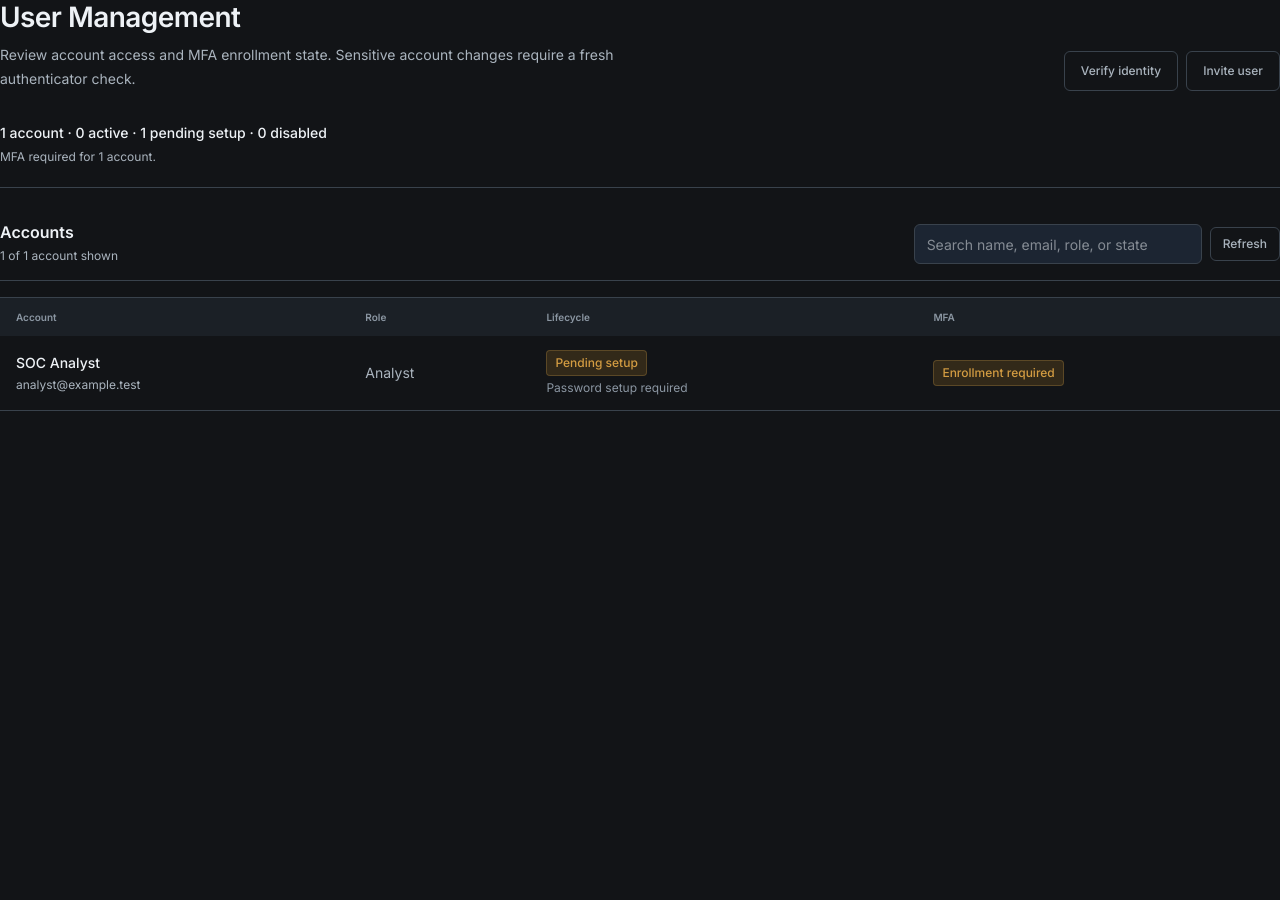
Test: UserManagementWorkspace › tracks a pending row action independently from other actions
Click the button with aria-label "Open account details for SOC Analyst" at (58, 363), box [16,353,100,373]
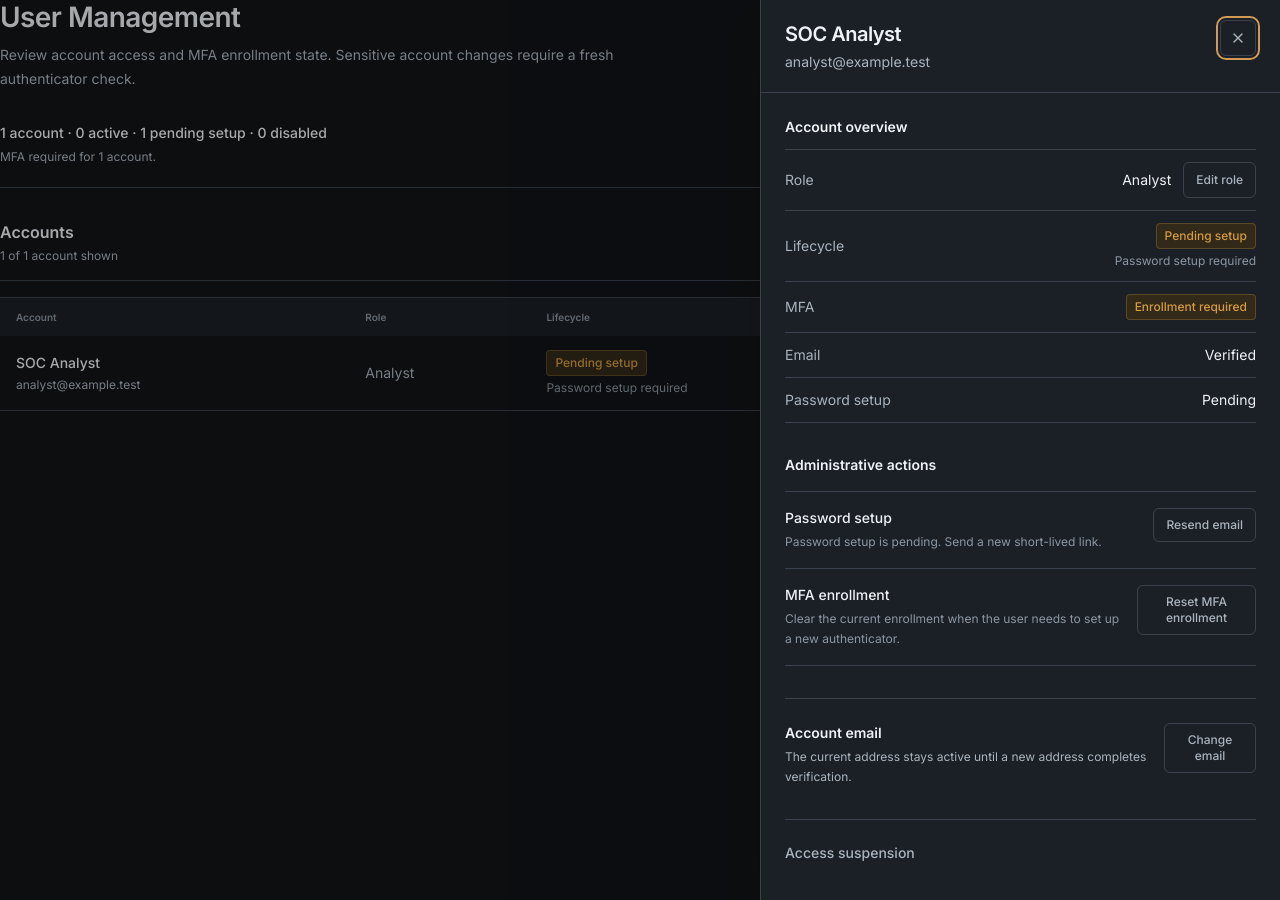
Click the button "Access suspension" at (850, 853), box [785,843,915,863]
(page scrolled)
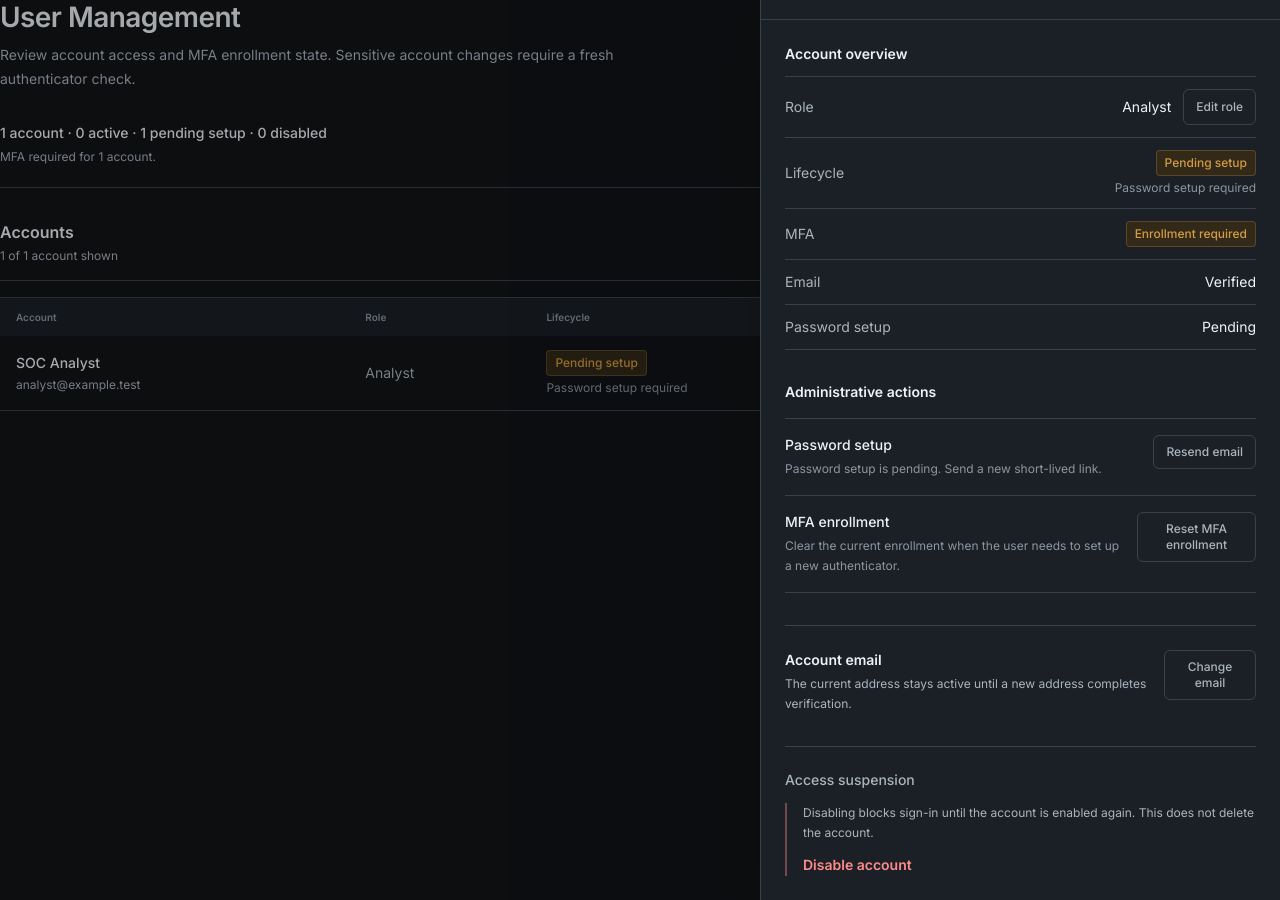
Click the button with aria-label "Disable SOC Analyst" at (857, 865), box [803,855,912,875]
(page scrolled)
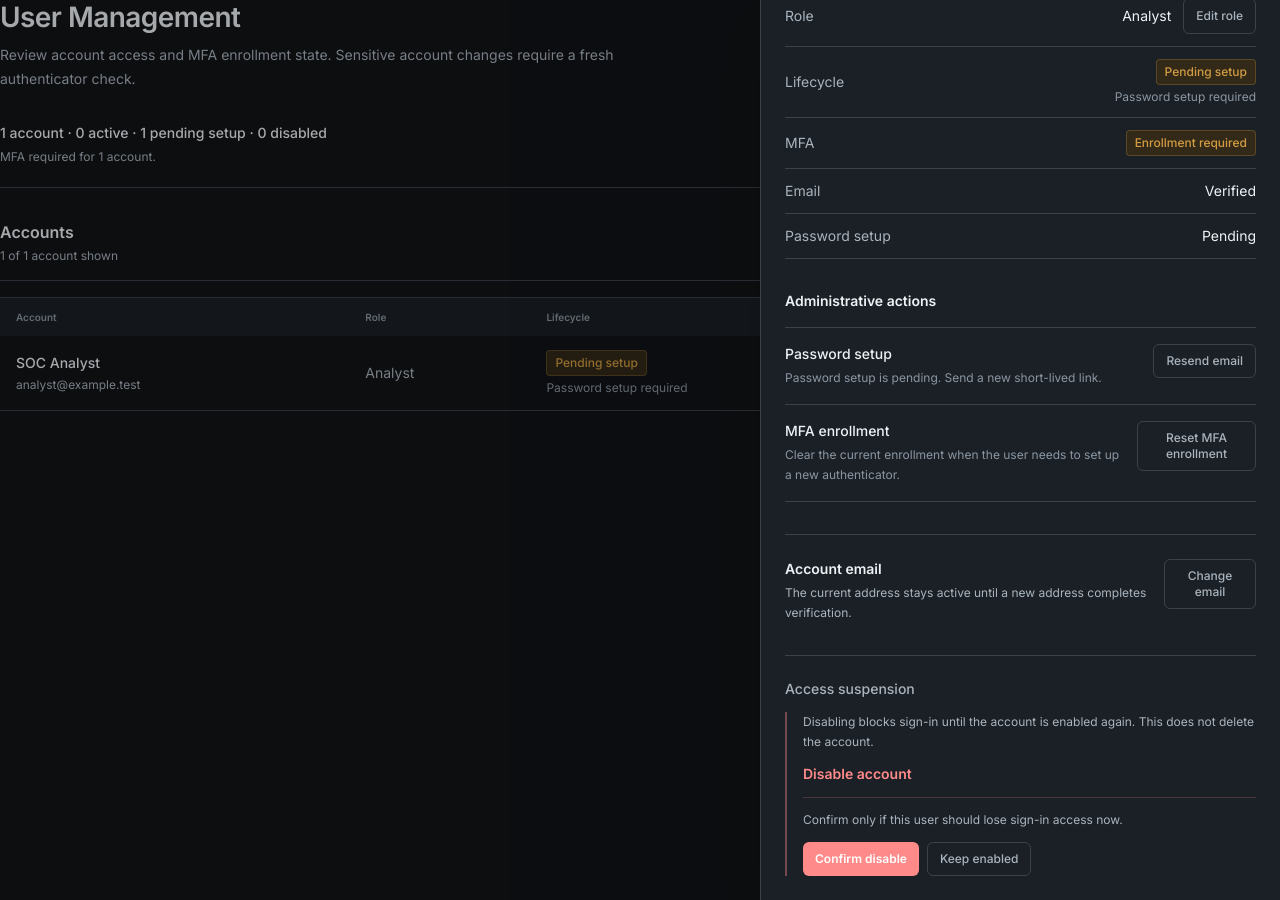
Now the text "Disabling blocks sign-in until the account is enabled again" is shown, box [803,714,1254,749]
Now the button with aria-label "Confirm disable SOC Analyst" is enabled
Click the button with aria-label "Confirm disable SOC Analyst" at (861, 859), box [803,842,919,876]
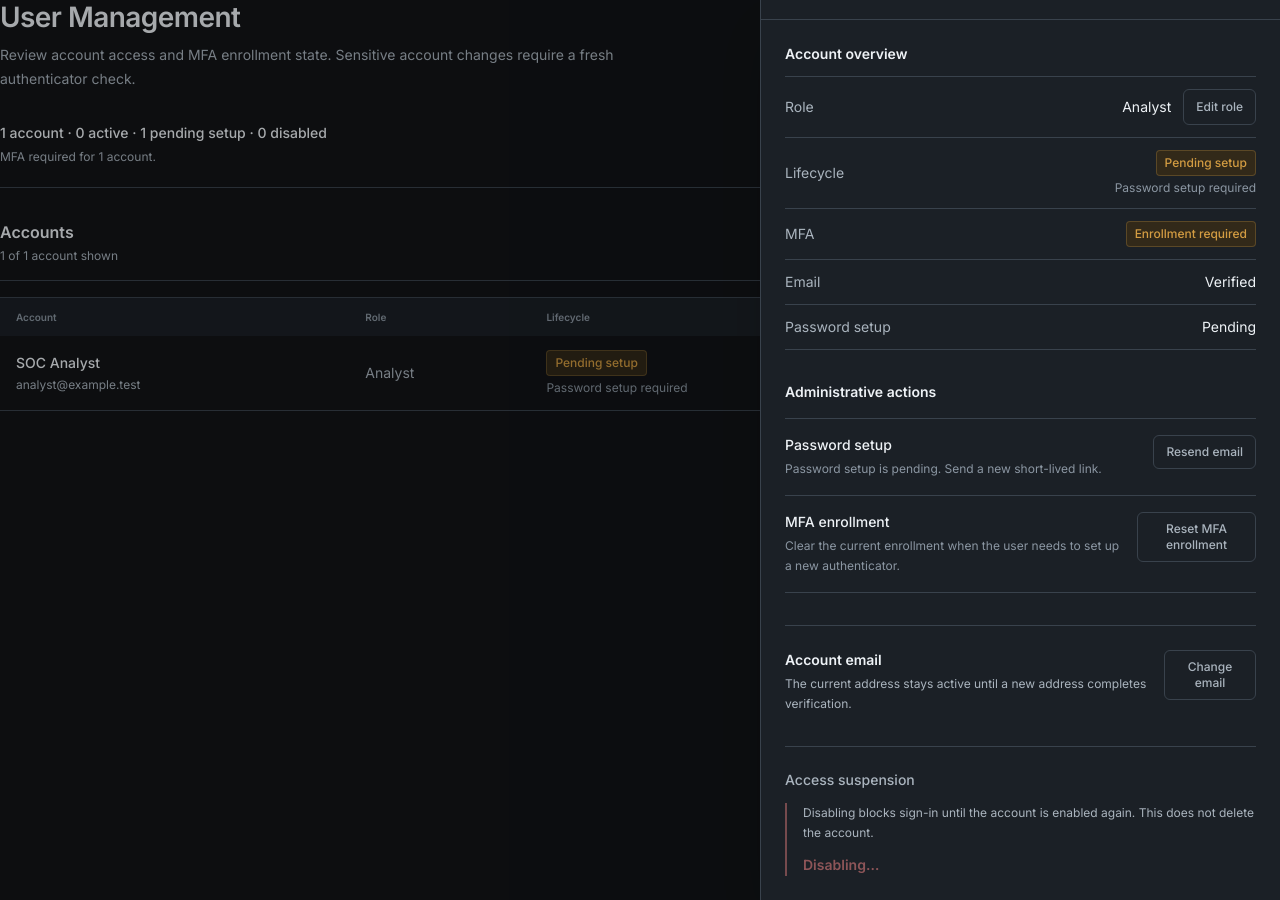
Now the button with aria-label "Resend setup for SOC Analyst" is enabled, box [1153,435,1256,469]
Now the button with aria-label "Disable SOC Analyst" is disabled, box [803,855,879,875]
